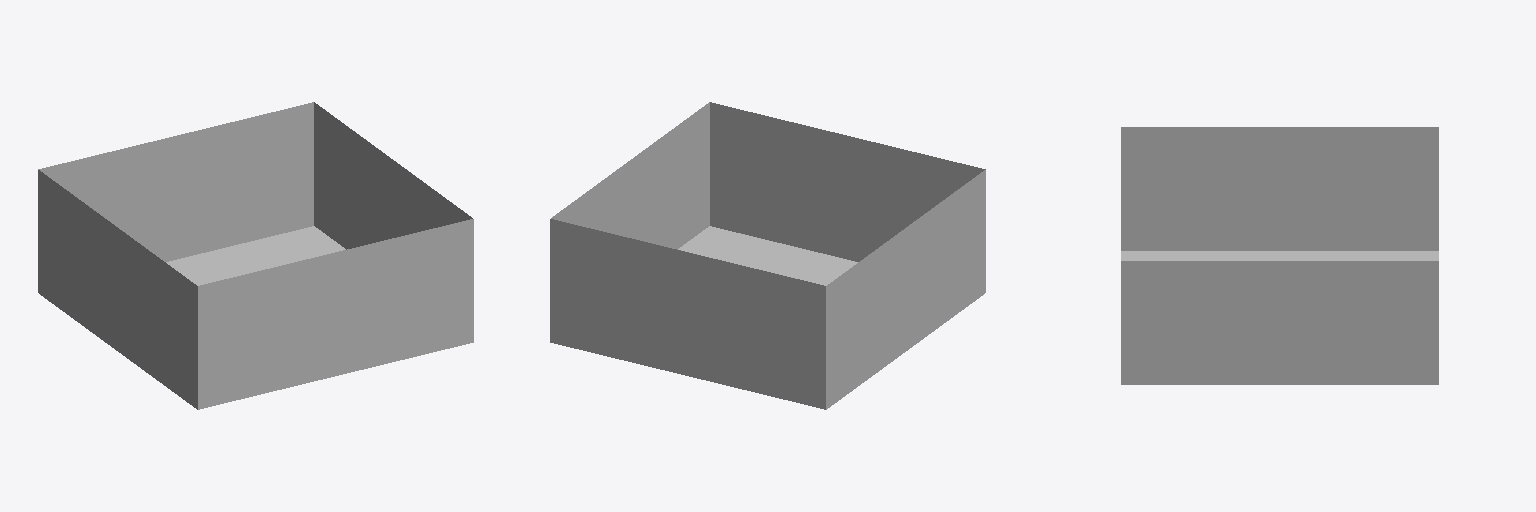
The model's file is Soldado.obj.
The picture shows the model from 3 angles: view 1: azimuth 30°, elevation 25°; view 2: azimuth 150°, elevation 25°; view 3: azimuth 270°, elevation 25°; orthographic projection.
Visible parts, largest first — view 1: Plane; view 2: Plane; view 3: Plane.
Part boxes in pixels (bbox=[...]): Plane: bbox=[38, 102, 473, 409]; Plane: bbox=[550, 102, 985, 409]; Plane: bbox=[1121, 127, 1438, 384].
Size of the model in its own units: 236 by 101 by 236.